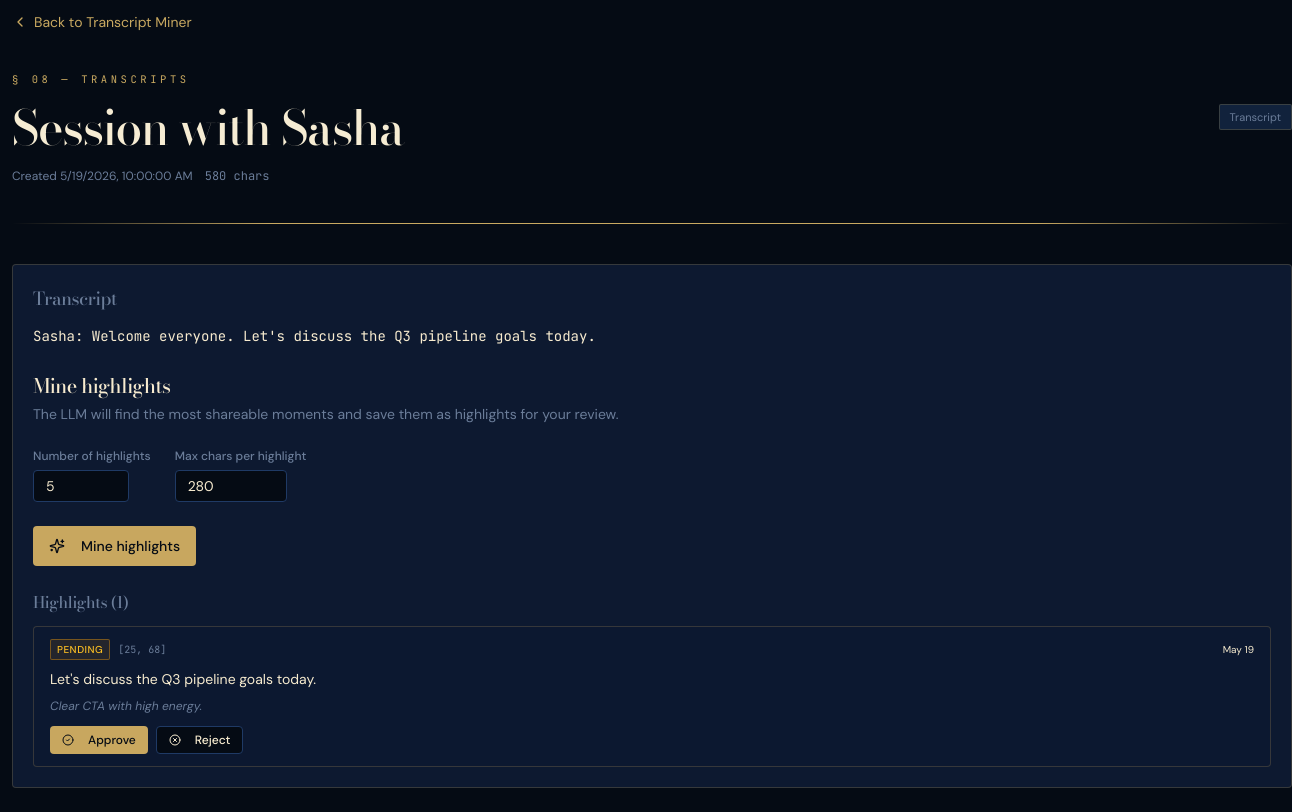
Scenario: WorkspaceTranscriptDetailRoute — B1.6 approval UX › removes the mark when mouse leaves the row
Hover over the list item with test id "highlight-row-h-00000000-0000-0000-0000-000000000001".
mouse_move(652, 696)  # box top-left (34, 626), bottom-right (1270, 766)
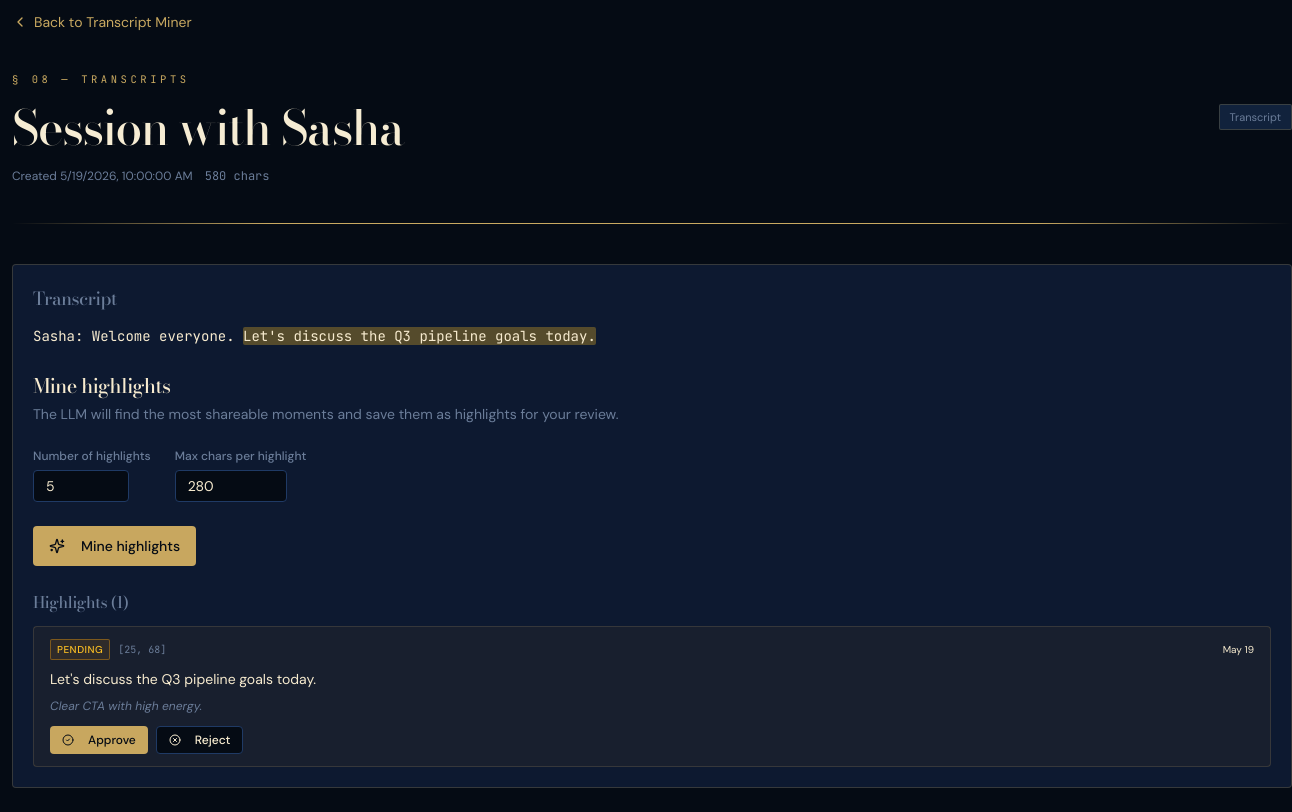
Expected: the text with test id "transcript-highlight-mark" is shown, top-left (243, 327), bottom-right (596, 345)
Move the pointer off the list item with test id "highlight-row-h-00000000-0000-0000-0000-000000000001", box top-left (34, 626), bottom-right (1270, 766)
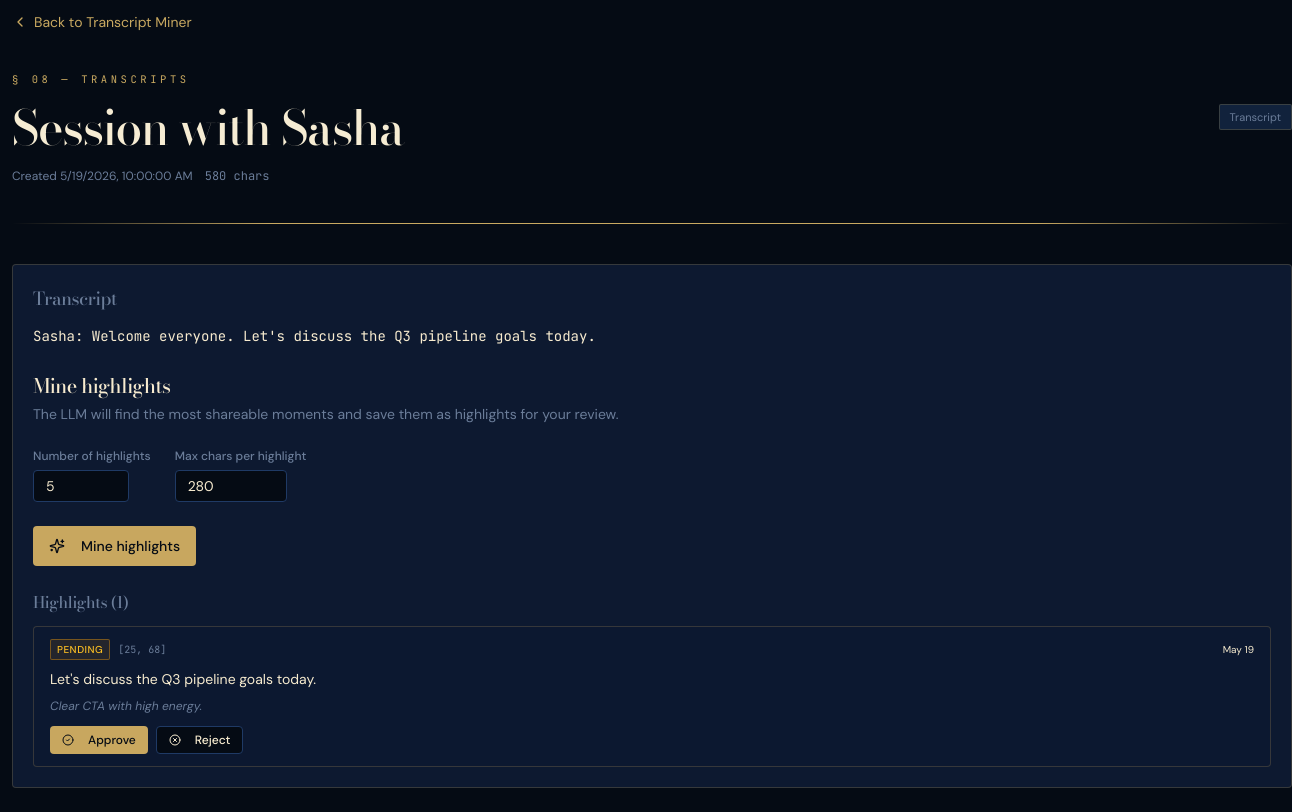
Result: the text with test id "transcript-highlight-mark" is gone
